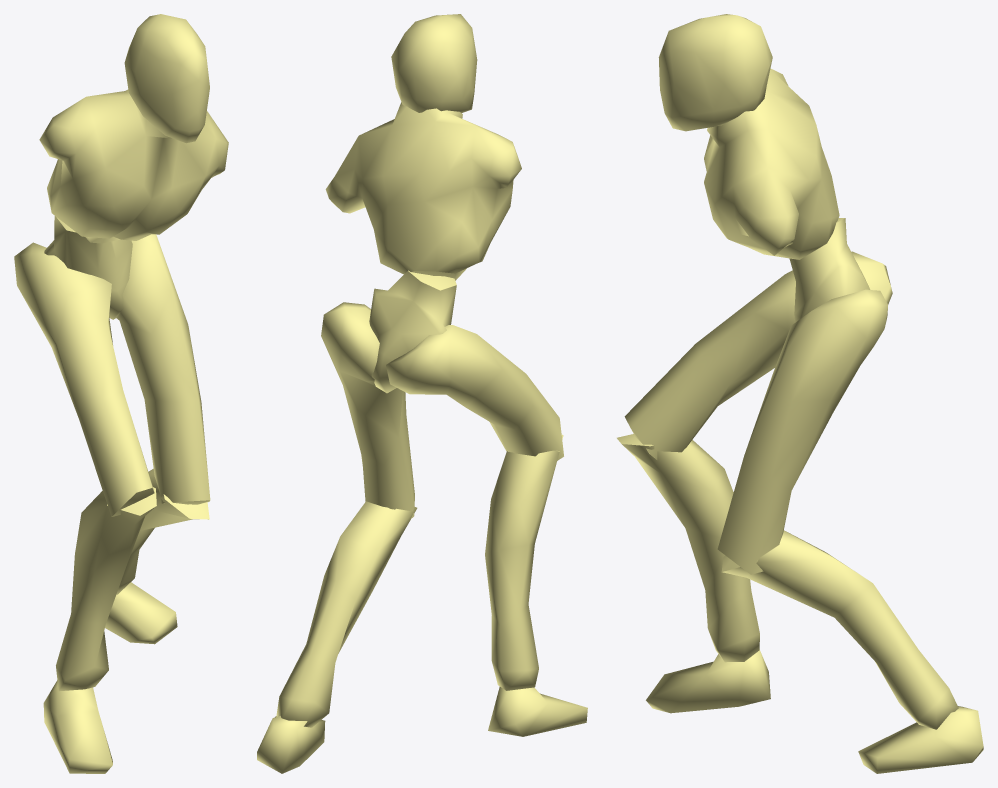
Rendered from filth8.obj.
3 renders of one model, left to right at view 1: azimuth 30°, elevation 25°; view 2: azimuth 150°, elevation 25°; view 3: azimuth 270°, elevation 25°, orthographic. The views are drawn at different scales.
Parts seen in each view (by area): view 1: Melee_Husk; view 2: Melee_Husk; view 3: Melee_Husk.
Boxes of the visible parts, left/top/right/bottom form: Melee_Husk: left=14, top=14, right=228, bottom=773; Melee_Husk: left=257, top=14, right=587, bottom=773; Melee_Husk: left=617, top=14, right=983, bottom=773.
Bounding box in the file's own units: 22.18 × 71.61 × 32.1.
